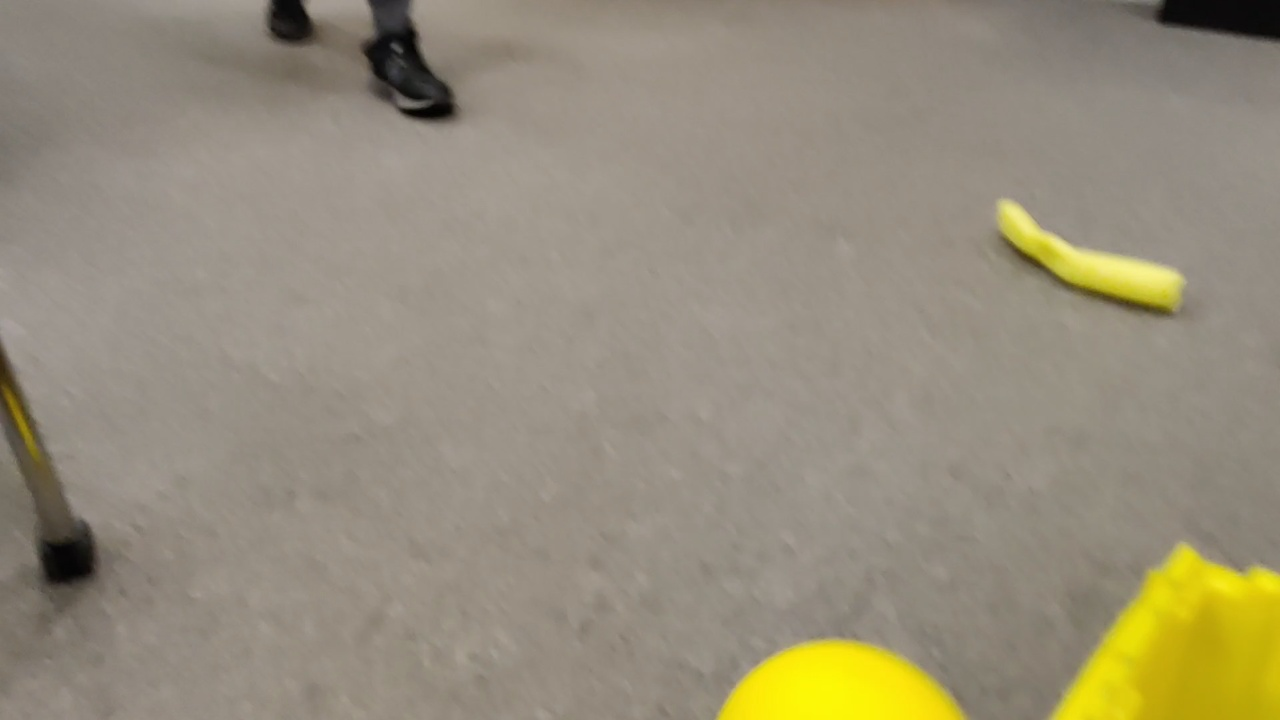Ball: (715, 638, 970, 720)
